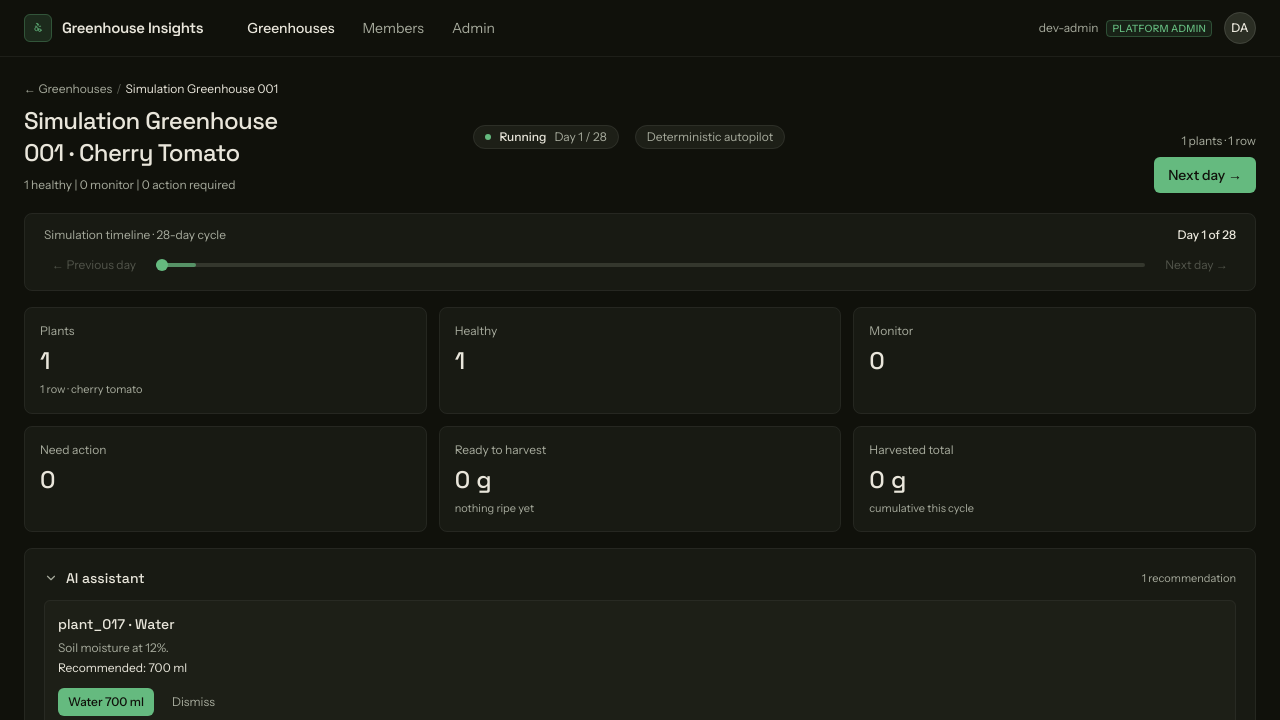
Test: GreenhouseDashboardPage › shows a pending recommendation and approving it marks it executed
expect the text "plant_017 · Water" is shown: met, box [58,614,175,634]
expect the text "Soil moisture at 12%." is shown: met, box [58,640,169,655]
Click the button "Water 700 ml" at (106, 702), box [58,688,154,716]
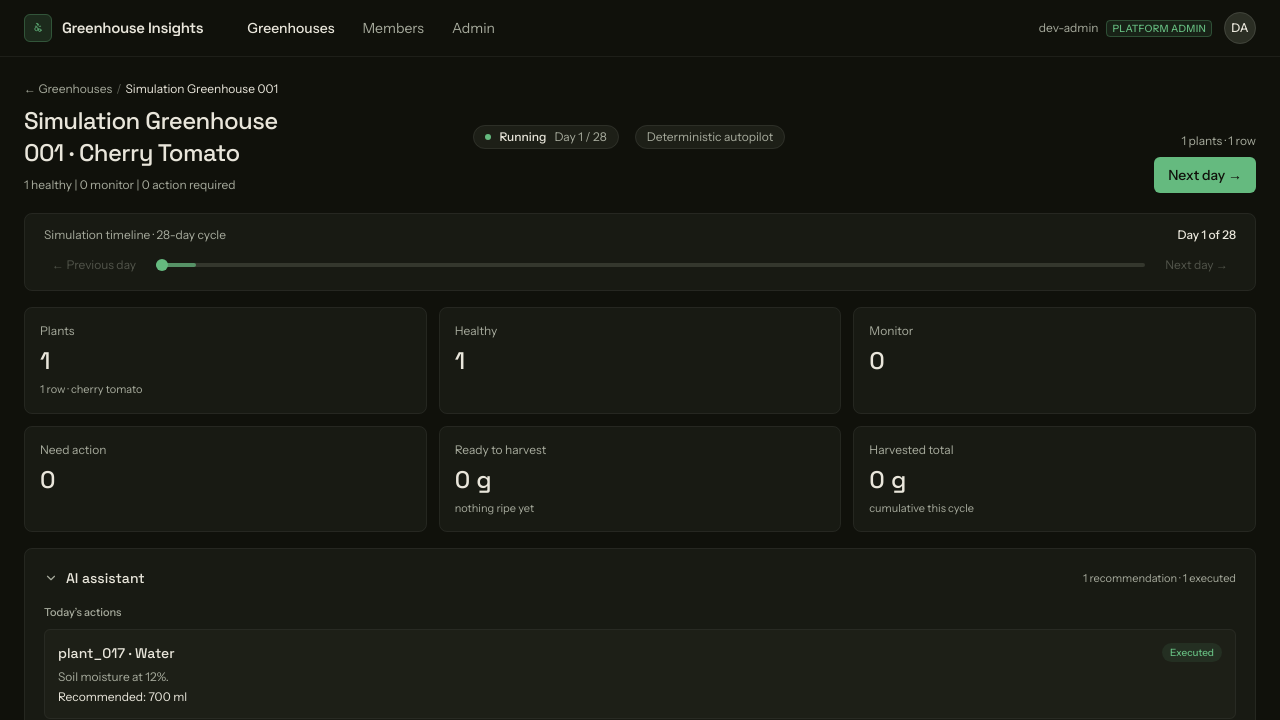
expect the text "Executed" is shown: met, box [1162,642,1222,662]
expect the button "Water 700 ml" is gone: met
